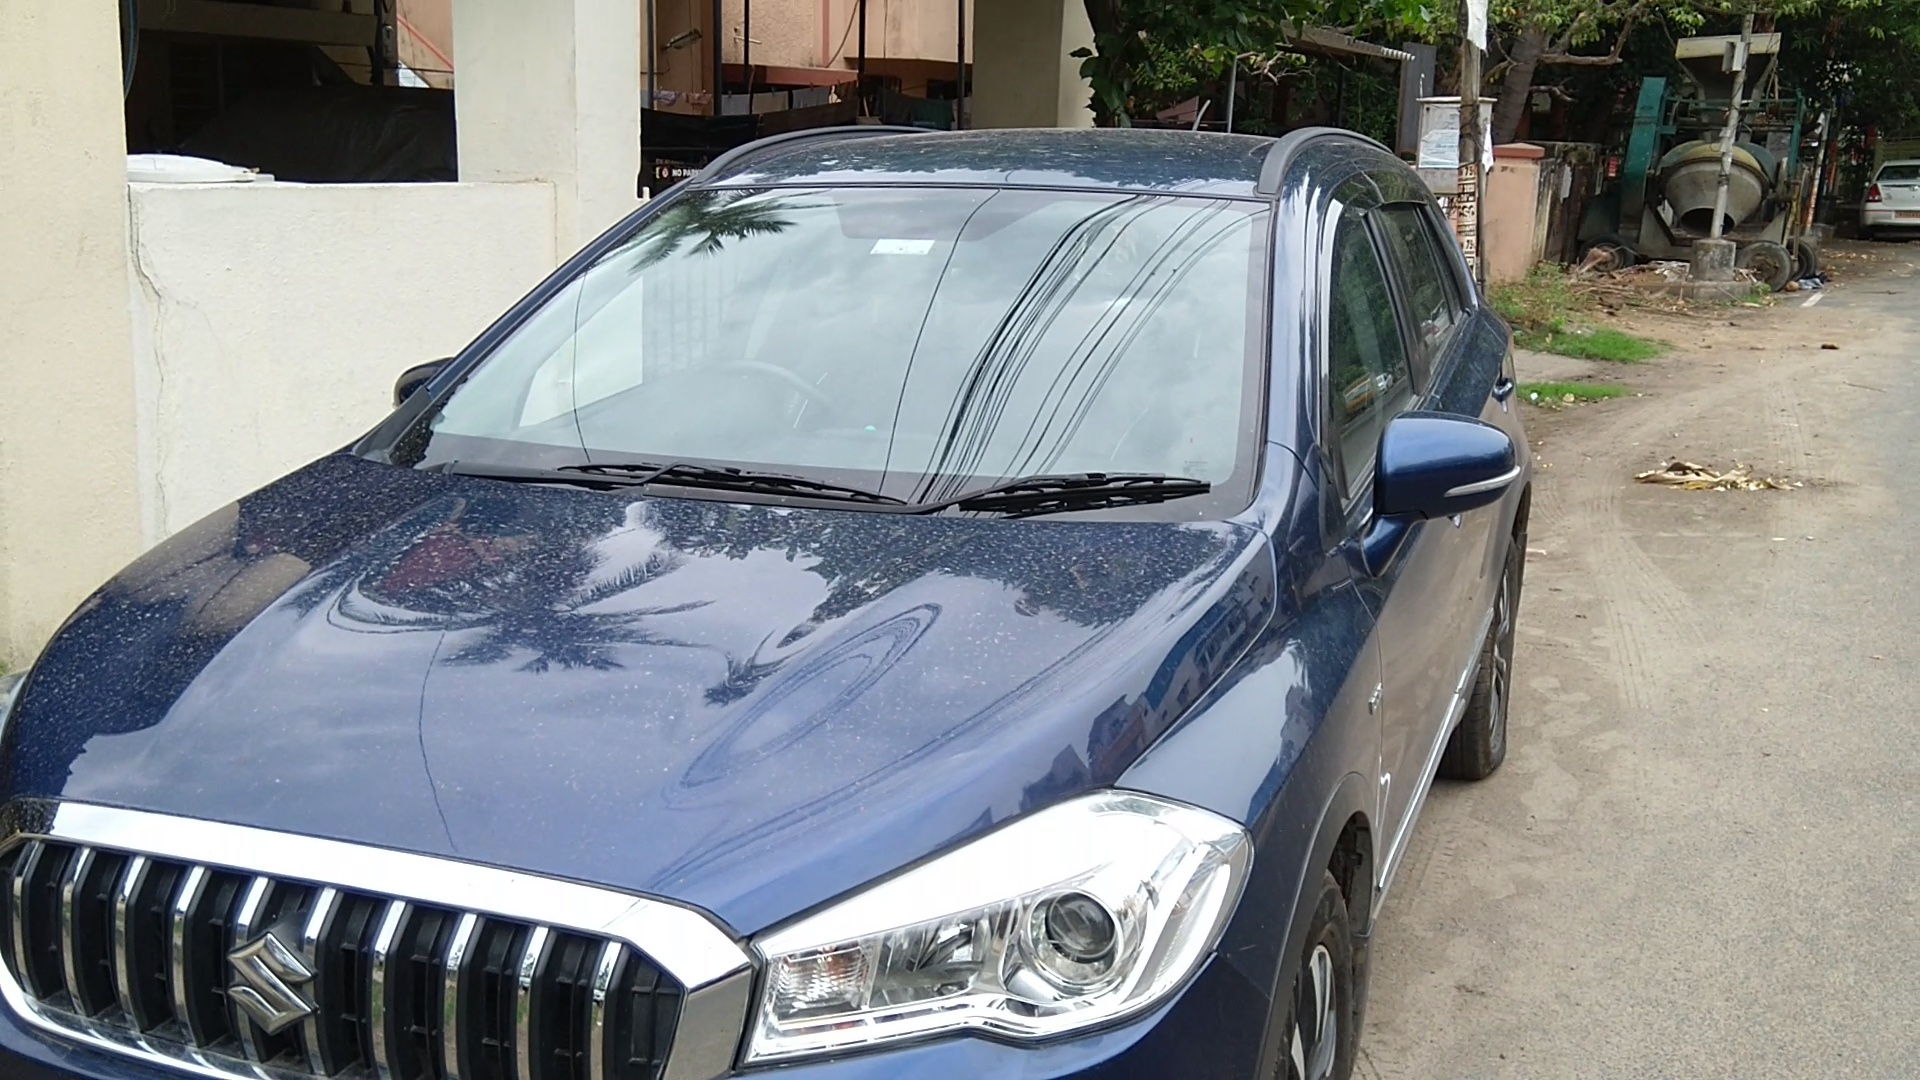front_grill: (15, 785, 744, 1080)
headlamp: (758, 785, 1265, 1072)
ovr_mirror: (1367, 407, 1526, 527)
